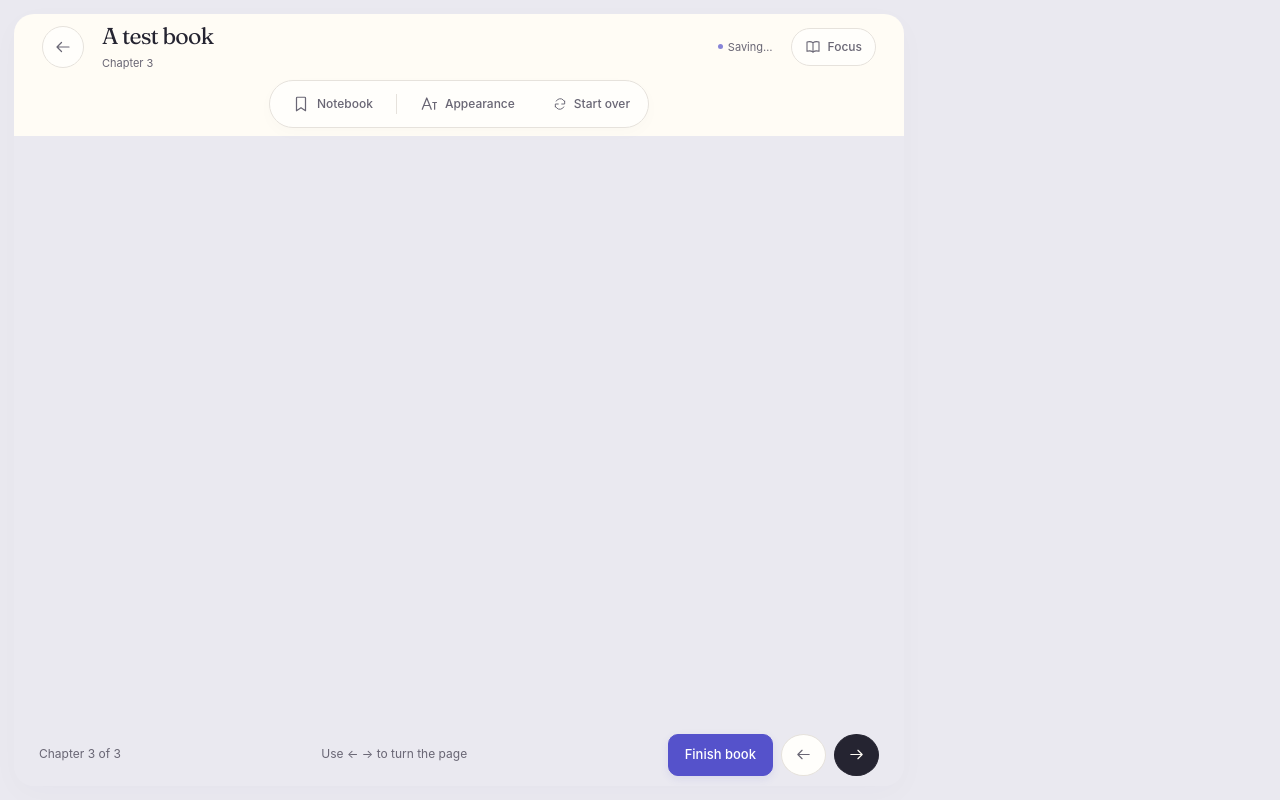
reader startup and search boundaries › final-page landing stays pending until an explicit Finish book action is saved
Click the button "Finish book" at coordinates (720, 754), box [668,734,773,776]
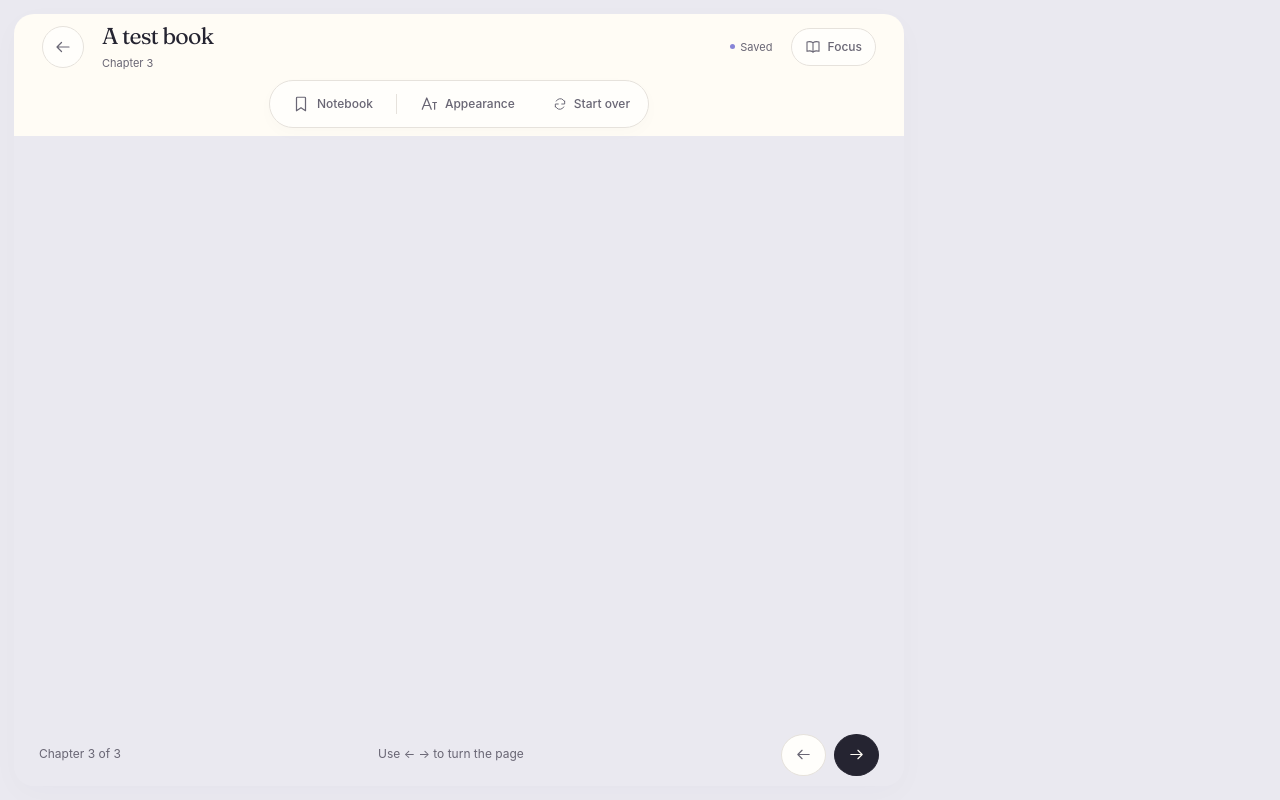
Result: the button "Finish book" is gone
